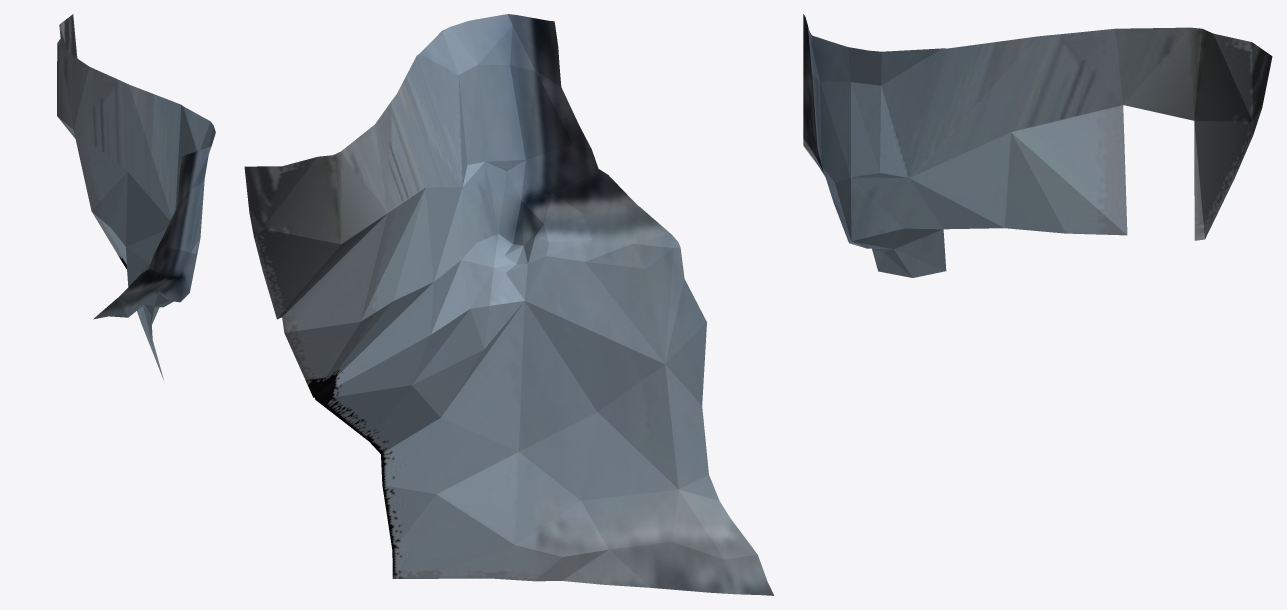
3 renders of one model, left to right at view 1: azimuth 30°, elevation 25°; view 2: azimuth 150°, elevation 25°; view 3: azimuth 270°, elevation 25°, orthographic. The views are drawn at different scales.
Size of the model in its own units: 1.02 by 1.67 by 1.32.
Materials: 2 (2 with a texture image).
